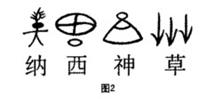chinese: (12, 51, 186, 79), (95, 79, 117, 96)
naxi: (16, 8, 197, 50)
